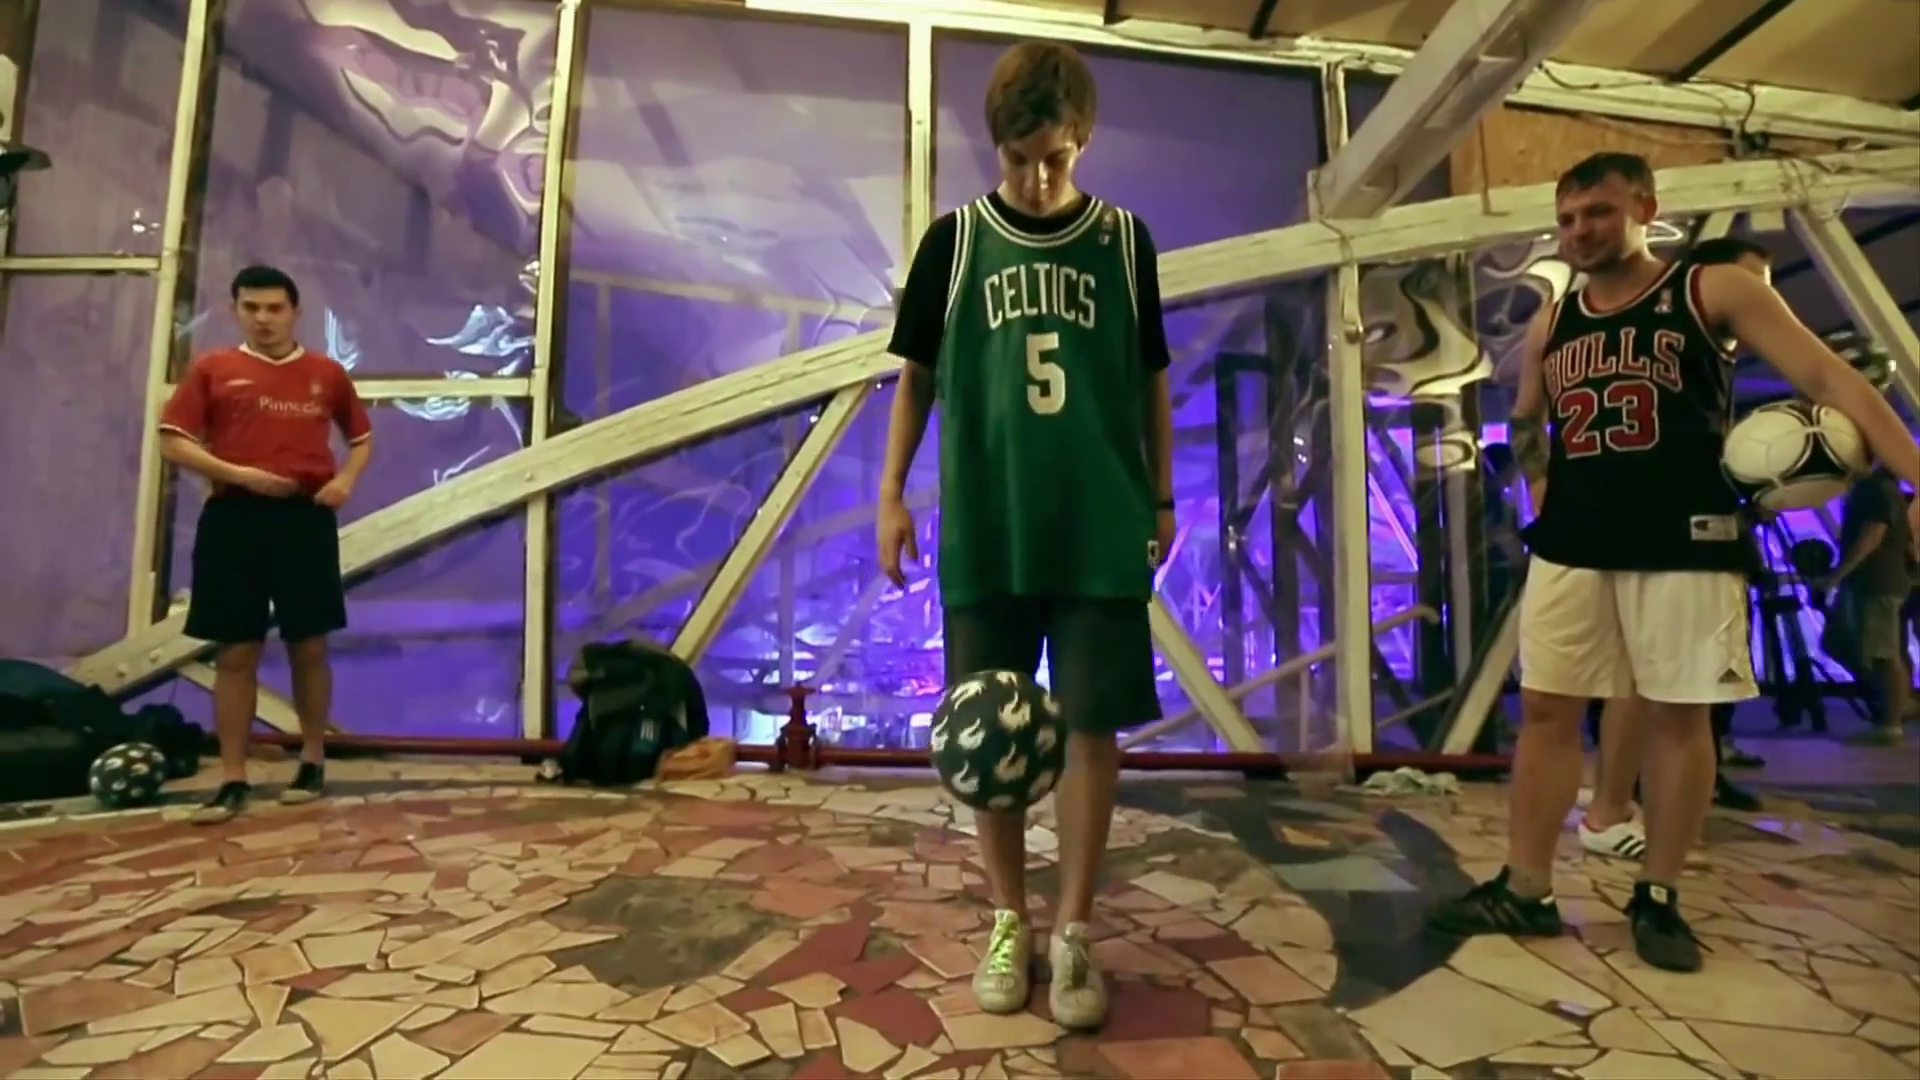person: (1421, 157, 1918, 976), (876, 39, 1177, 1029), (159, 266, 372, 824)
